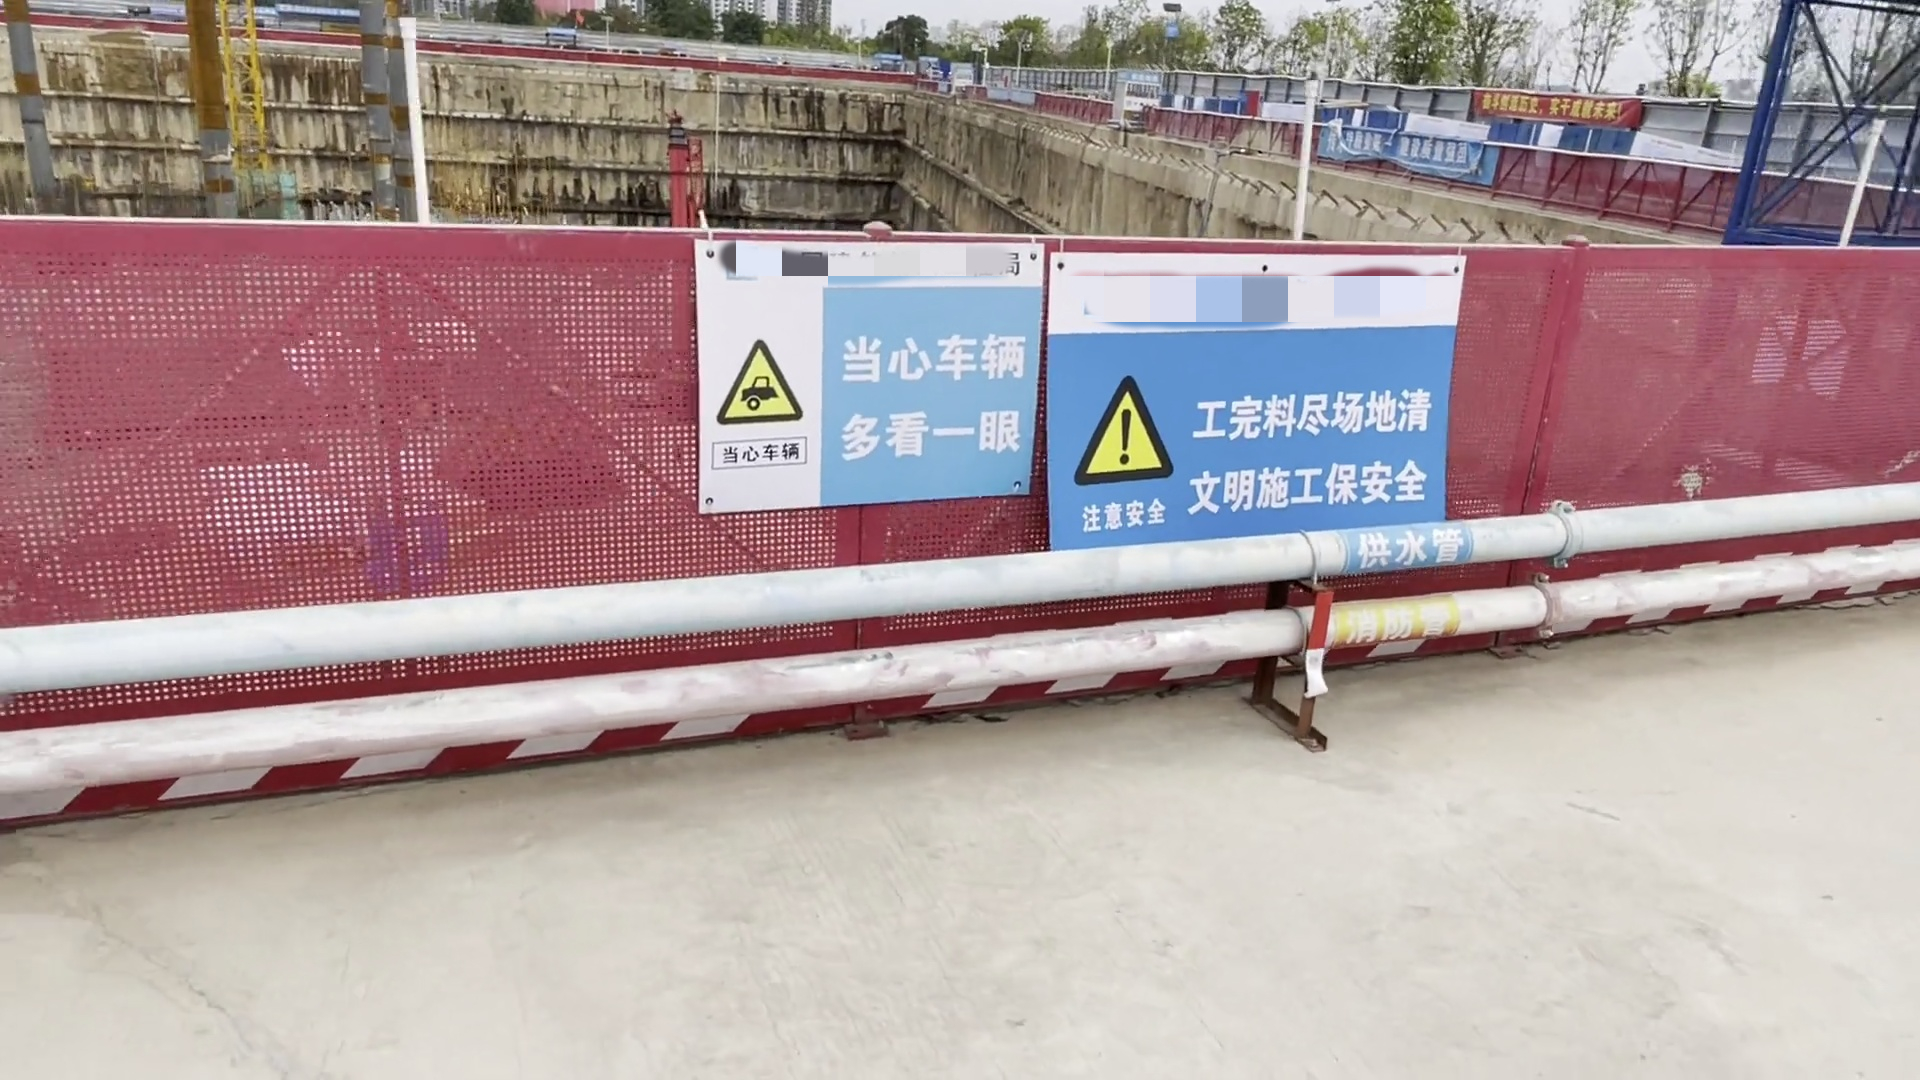slogan: (1458, 61, 1656, 141), (1311, 108, 1484, 193)
